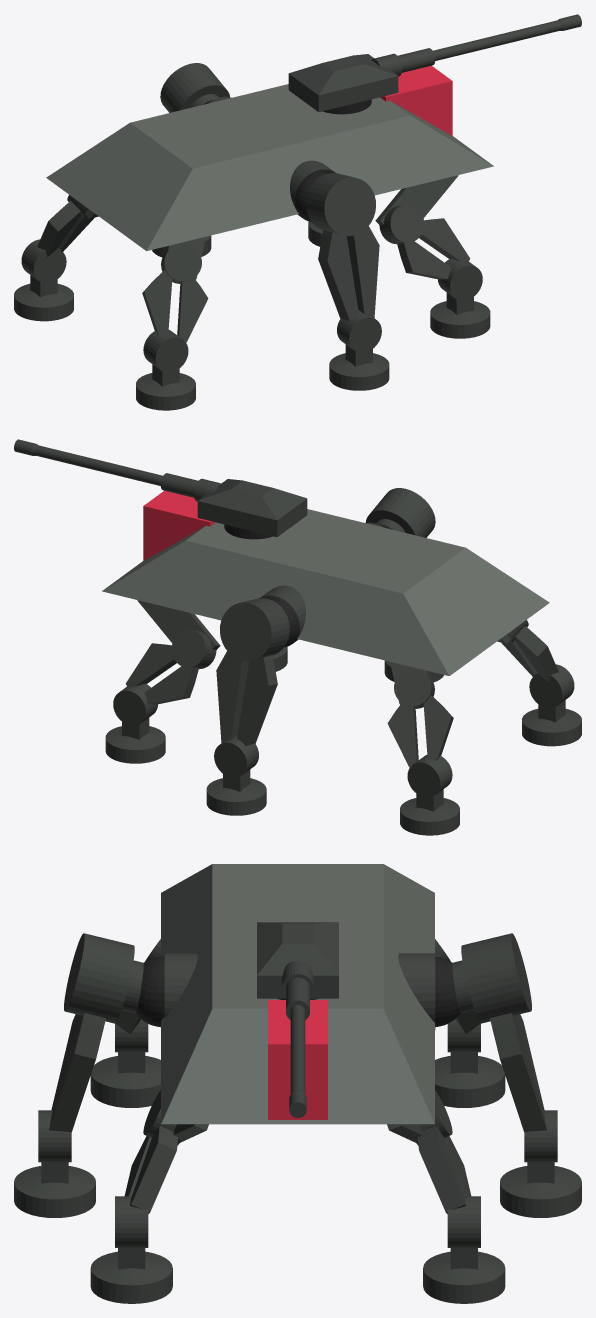
3 renders of one model, top to bottom at view 1: azimuth 30°, elevation 25°; view 2: azimuth 150°, elevation 25°; view 3: azimuth 270°, elevation 25°, orthographic. The views are drawn at different scales.
Visible parts, largest first — view 1: Base, Turret; view 2: Base, Turret; view 3: Base, Turret.
Boxes of the visible parts, left/top/right/bottom form: Base: left=14, top=63, right=493, bottom=410; Turret: left=288, top=14, right=581, bottom=111; Base: left=102, top=488, right=581, bottom=835; Turret: left=14, top=439, right=307, bottom=536; Base: left=14, top=864, right=581, bottom=1303; Turret: left=257, top=922, right=338, bottom=1117.
Bounding box in the file's own units: 2874 × 1272 × 2074.
